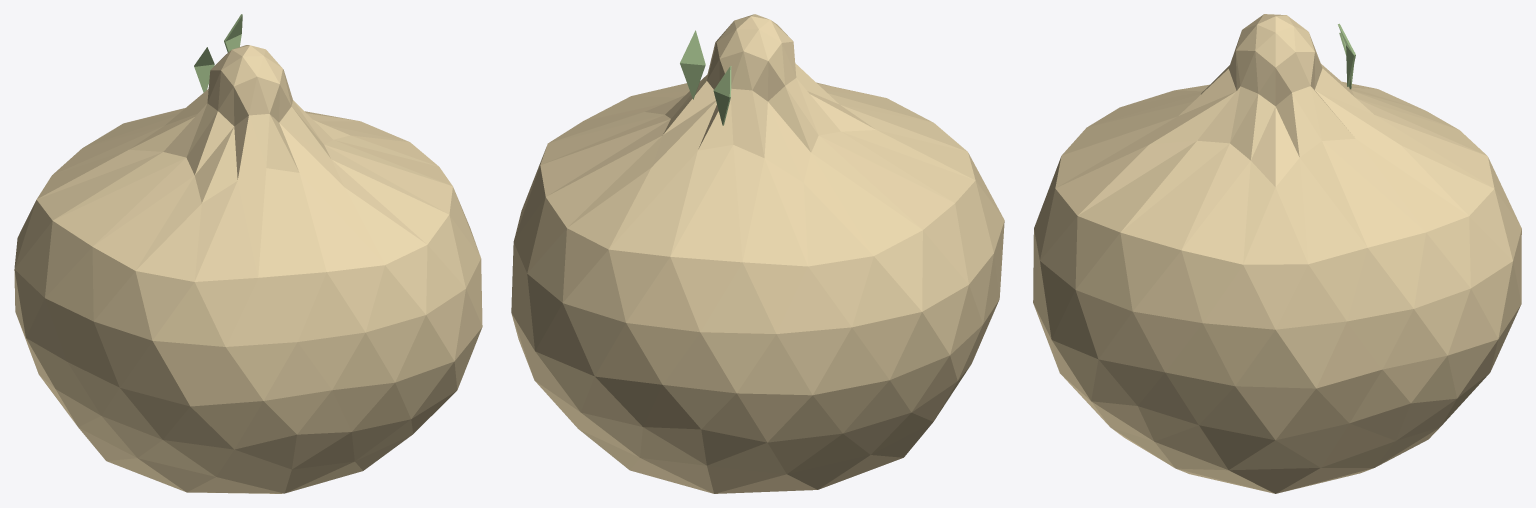
Rendered from seed_pouch.glb.
The picture shows the model from 3 angles, left to right: view 1: azimuth 30°, elevation 25°; view 2: azimuth 150°, elevation 25°; view 3: azimuth 270°, elevation 25°; orthographic projection. The views are drawn at different scales.
Parts seen in each view (by area): view 1: PouchBody, PouchLeaf.001; view 2: PouchBody, PouchLeaf, PouchLeaf.001; view 3: PouchBody.
Boxes of the visible parts, x1,y1,x2,y2 form: PouchBody: (14,45,482,493); PouchLeaf.001: (194,47,214,92); PouchBody: (511,14,1004,493); PouchLeaf: (680,30,705,99); PouchLeaf.001: (713,66,731,125); PouchBody: (1033,14,1521,493).
Size of the model in its own units: 2.05 by 1.91 by 2.05.
